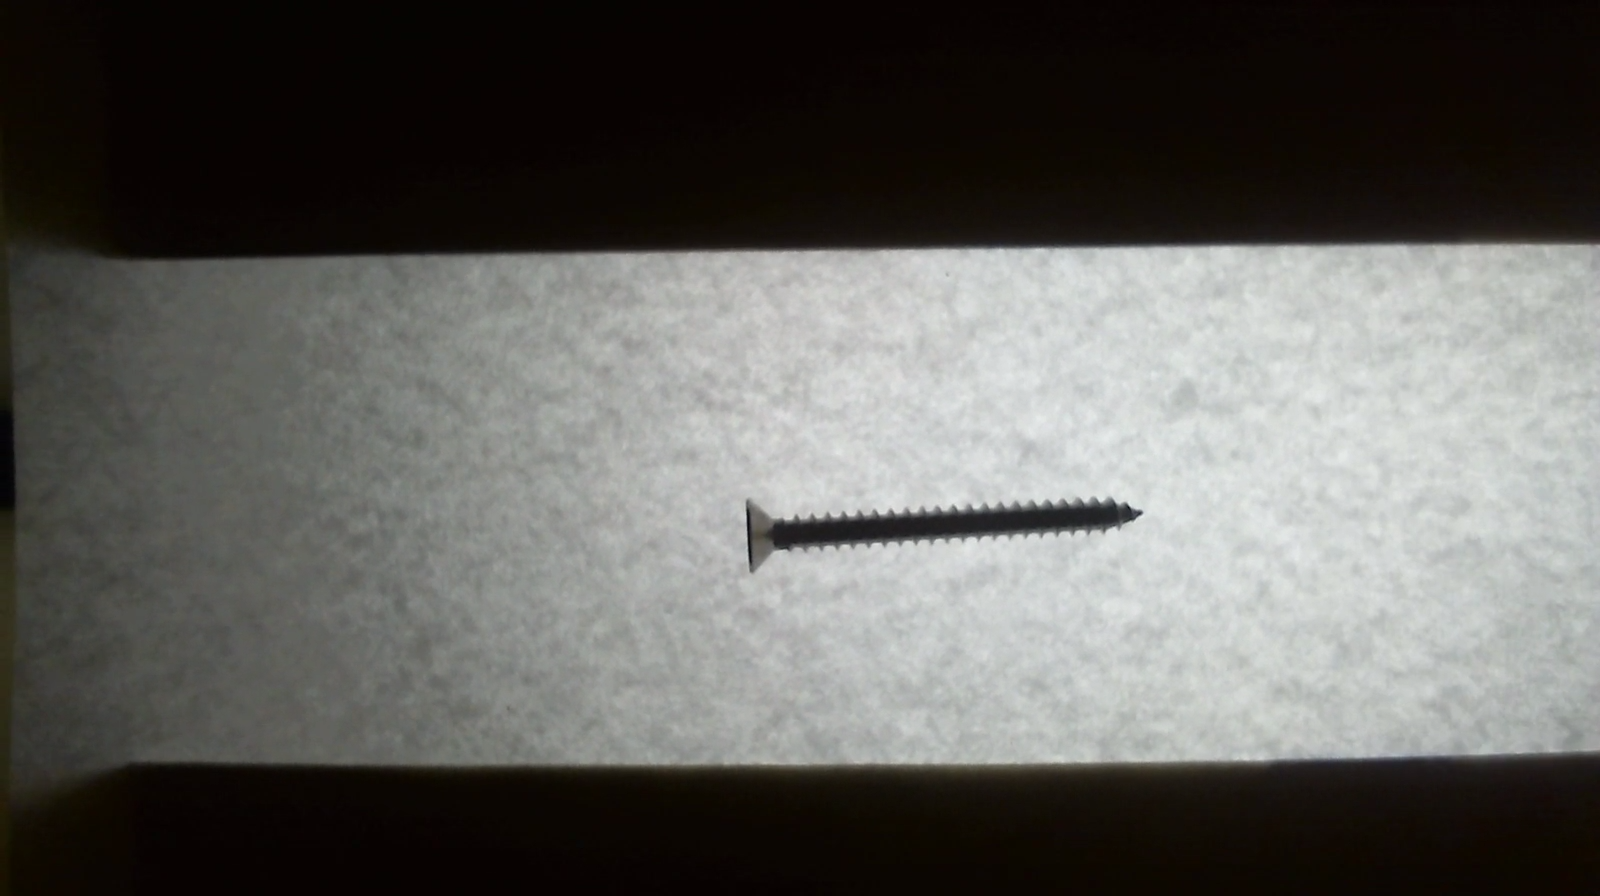S002: (731, 482, 1152, 580)
